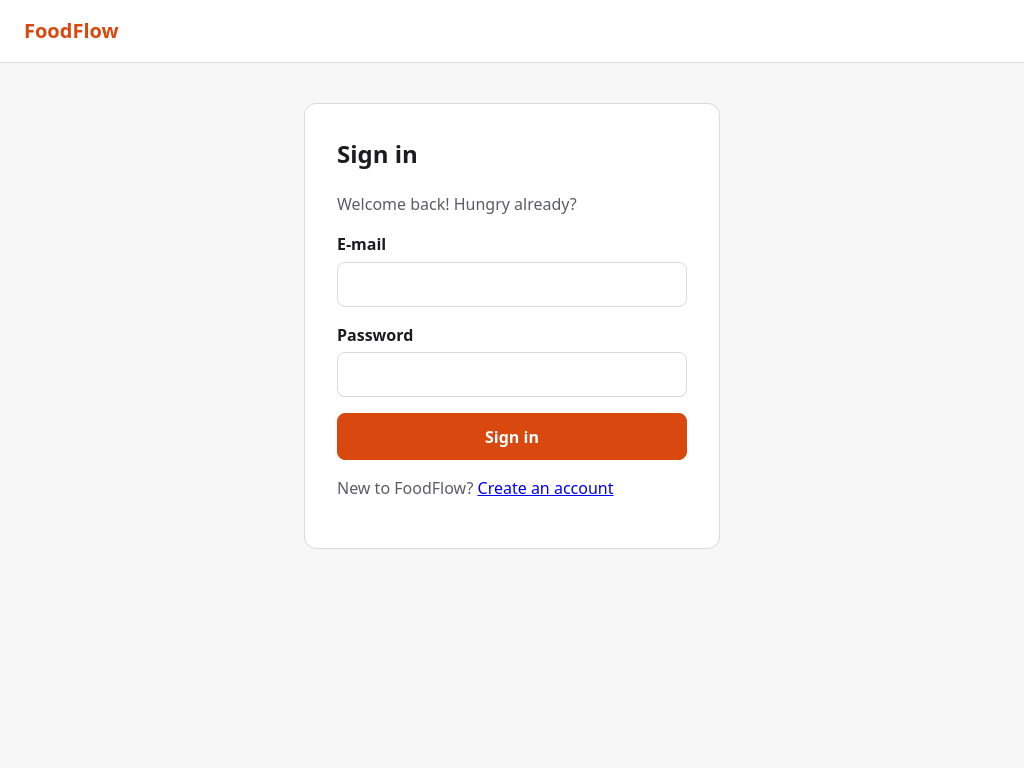
it: sign in › signs in and returns to the originally requested page
In the field labelled "E-mail": point(512, 284) x1=337 y1=262 x2=687 y2=307, type "jane@example.com"
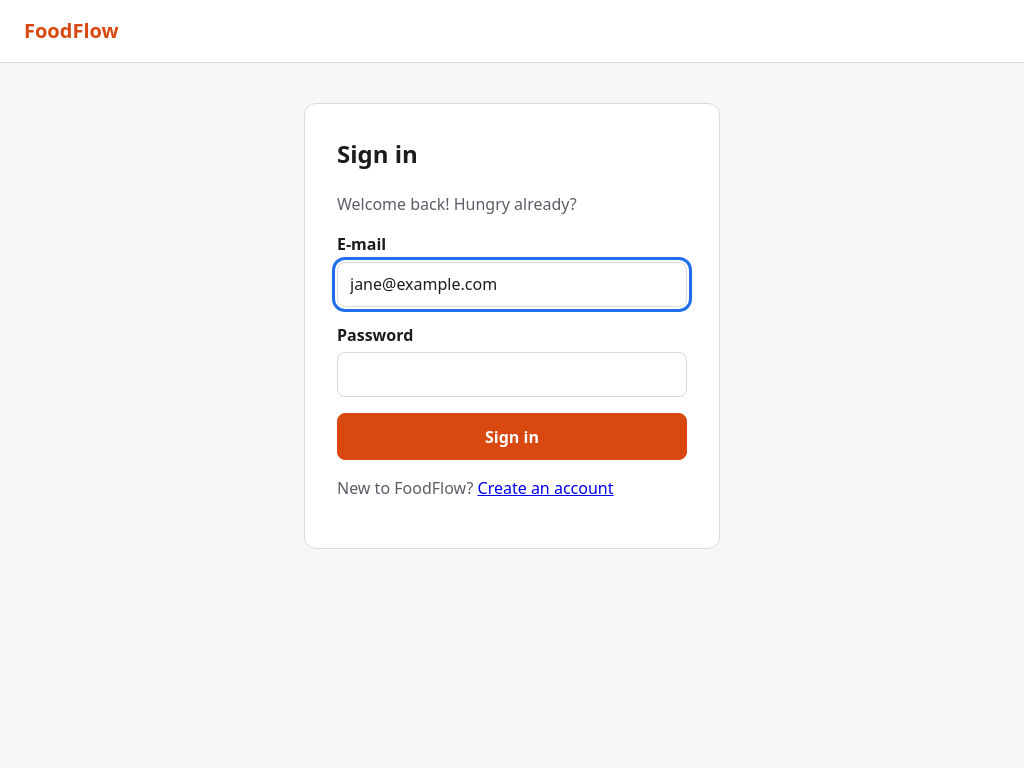
In the password field labelled "Password": point(512, 375) x1=337 y1=352 x2=687 y2=398, type "correct horse battery staple"
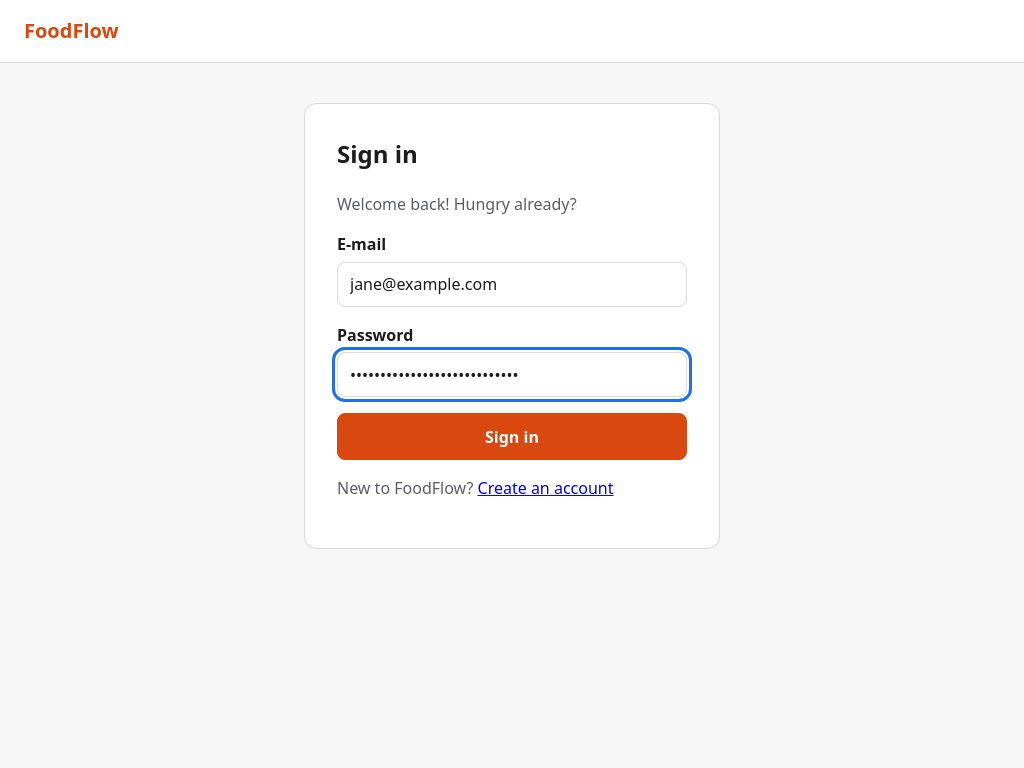
Click the button "Sign in": point(512, 437) x1=337 y1=414 x2=687 y2=460
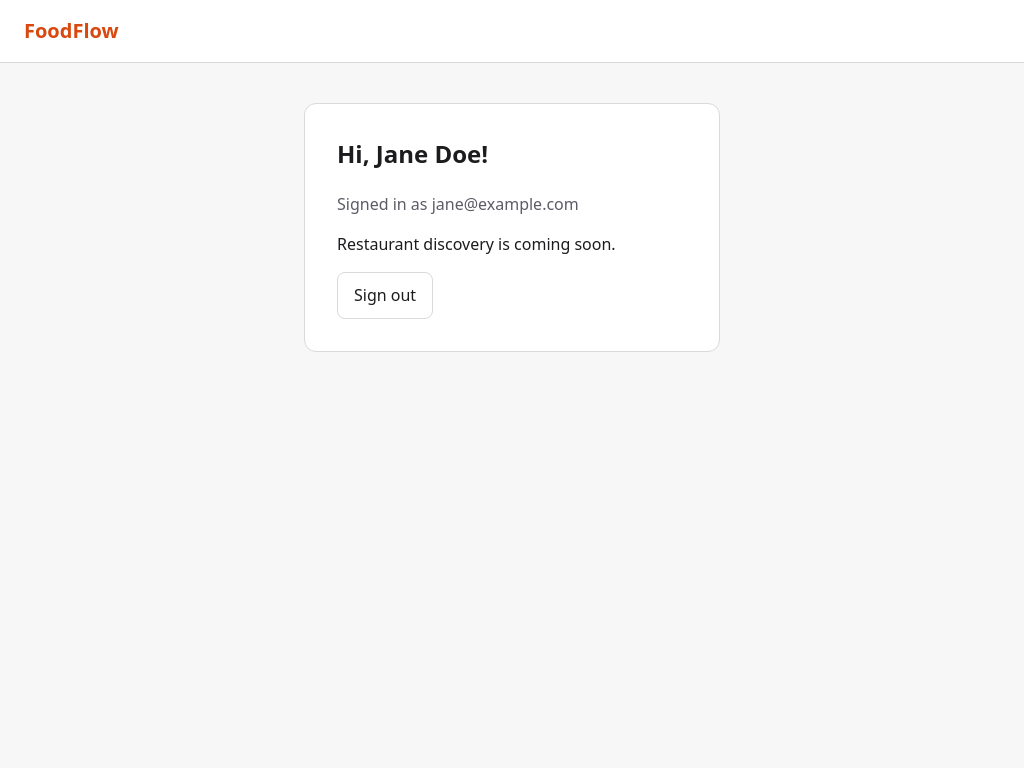
Expected: the heading "Hi, Jane Doe!" is shown, x1=337 y1=137 x2=488 y2=170
